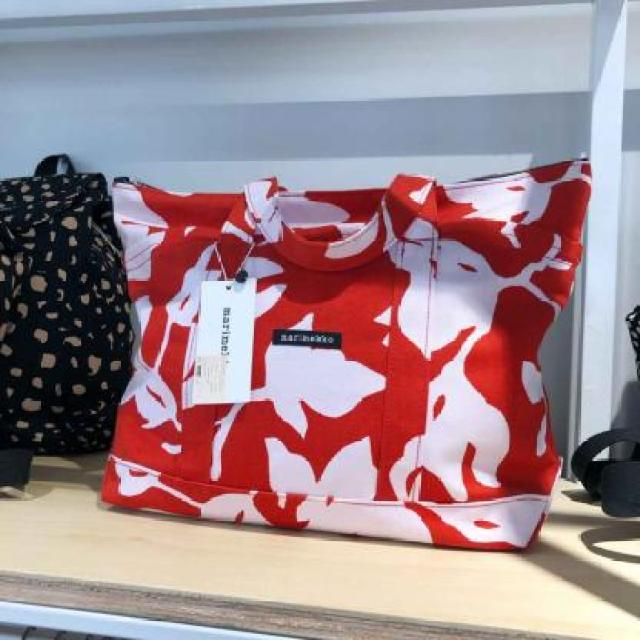Bag: (83, 147, 602, 568)
